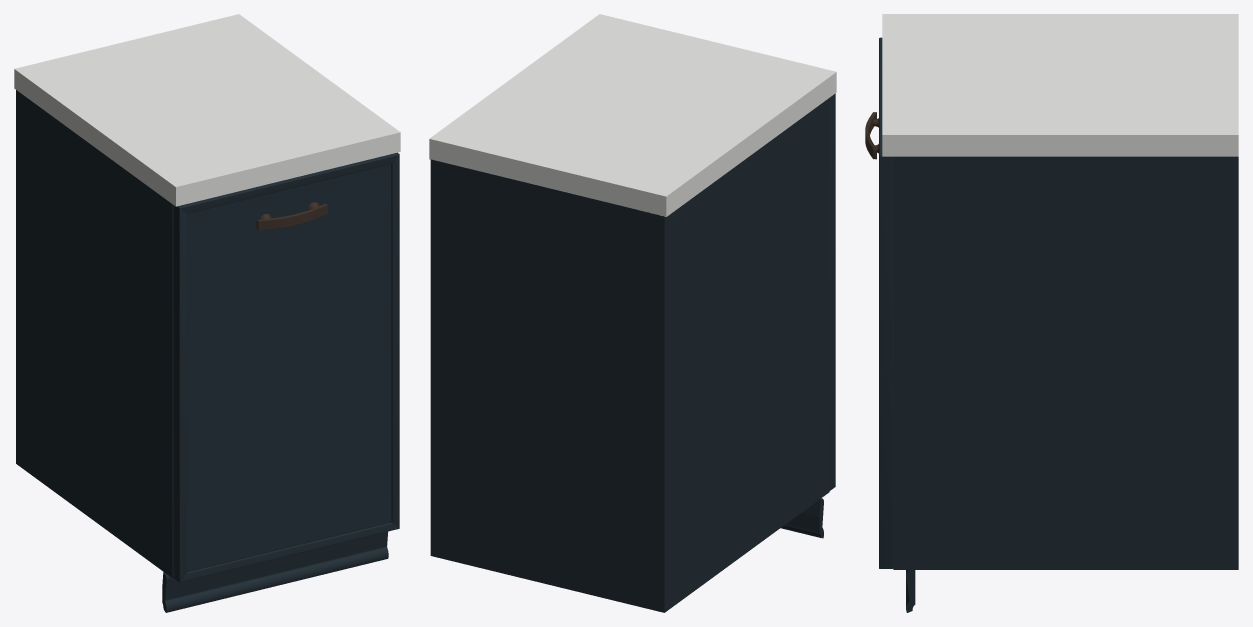
The model's file is default_bottom.gltf.
3 views of the same model, side by side, from view 1: azimuth 30°, elevation 25°; view 2: azimuth 150°, elevation 25°; view 3: azimuth 270°, elevation 25° (orthographic). The views are drawn at different scales.
Visible parts, largest first — view 1: Box8222913, Rectangle040, Box8222915, Rectangle067, SPR-5052, 10407_Door_Knobs_ Pulls_v1_max2009_SG_iteration-2; view 2: Rectangle040, Box8222915, Rectangle067, SPR-5052; view 3: Rectangle040, Box8222915, Rectangle067.
Boxes of the visible parts, box(x1,y1,x2,y2) form: Box8222913: box(187, 164, 390, 571); Rectangle040: box(16, 90, 173, 578); Box8222915: box(14, 14, 400, 206); Rectangle067: box(173, 152, 399, 582); SPR-5052: box(162, 531, 388, 612); 10407_Door_Knobs_ Pulls_v1_max2009_SG_iteration-2: box(256, 202, 327, 230); Rectangle040: box(430, 98, 829, 612); Box8222915: box(429, 14, 836, 216); Rectangle067: box(829, 93, 835, 490); SPR-5052: box(780, 498, 823, 538); Rectangle040: box(893, 156, 1238, 569); Box8222915: box(882, 14, 1238, 156); Rectangle067: box(879, 37, 893, 568).
Bounding box in the file's own units: 0.4818 × 0.8892 × 0.6288.
